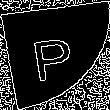P_N: (30, 27, 80, 83)
